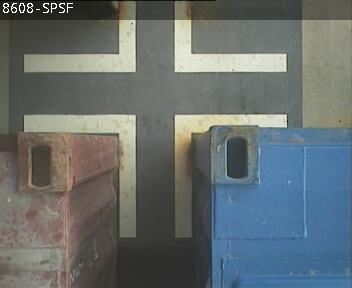groundmarker_1: (21, 114, 284, 237), (23, 1, 287, 72)
